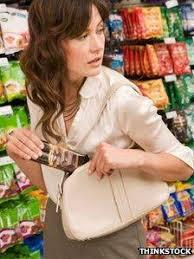shoplifting: (5, 112, 175, 234)
